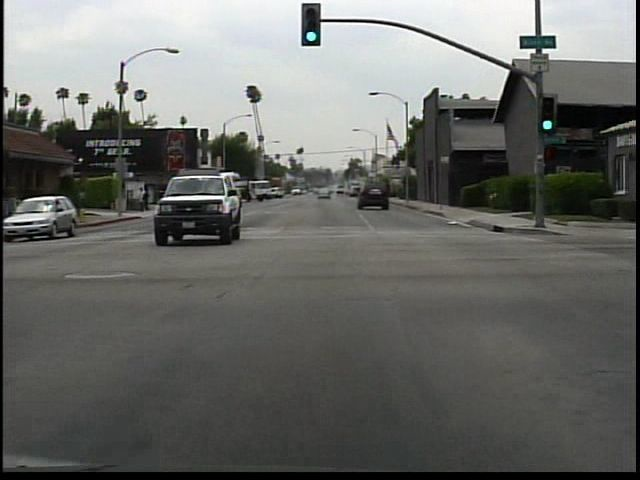person: (139, 183, 154, 214)
